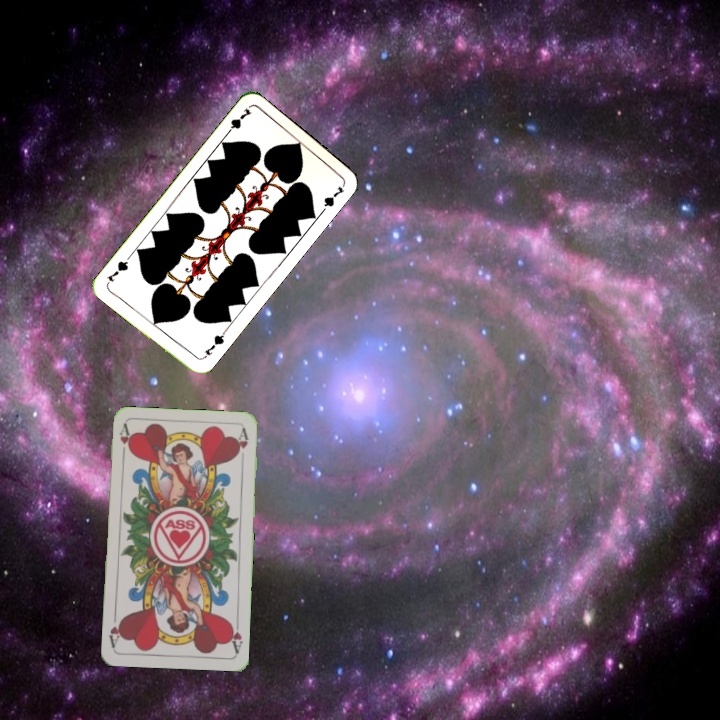G7: (222, 103, 254, 138), (198, 327, 228, 362)
HA: (225, 615, 245, 655), (116, 421, 133, 462)
